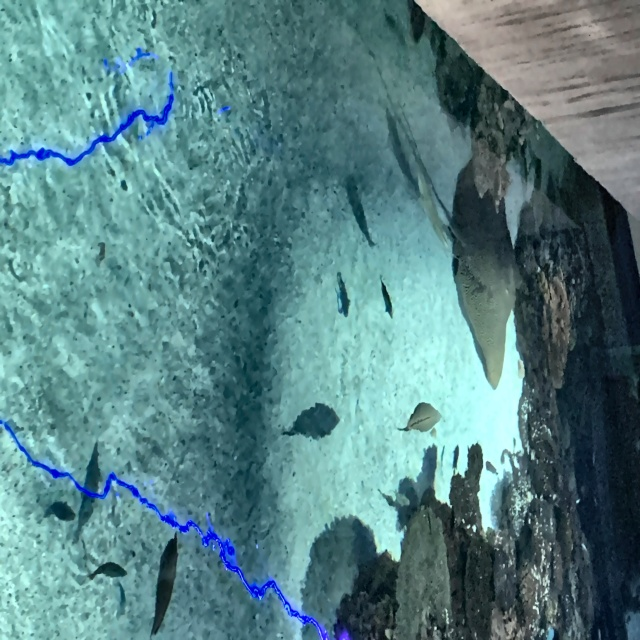fish: (148, 531, 182, 636), (400, 402, 442, 438), (88, 556, 126, 590), (379, 278, 397, 320), (451, 444, 462, 478), (484, 459, 498, 476)
stingray: (450, 155, 515, 390)
